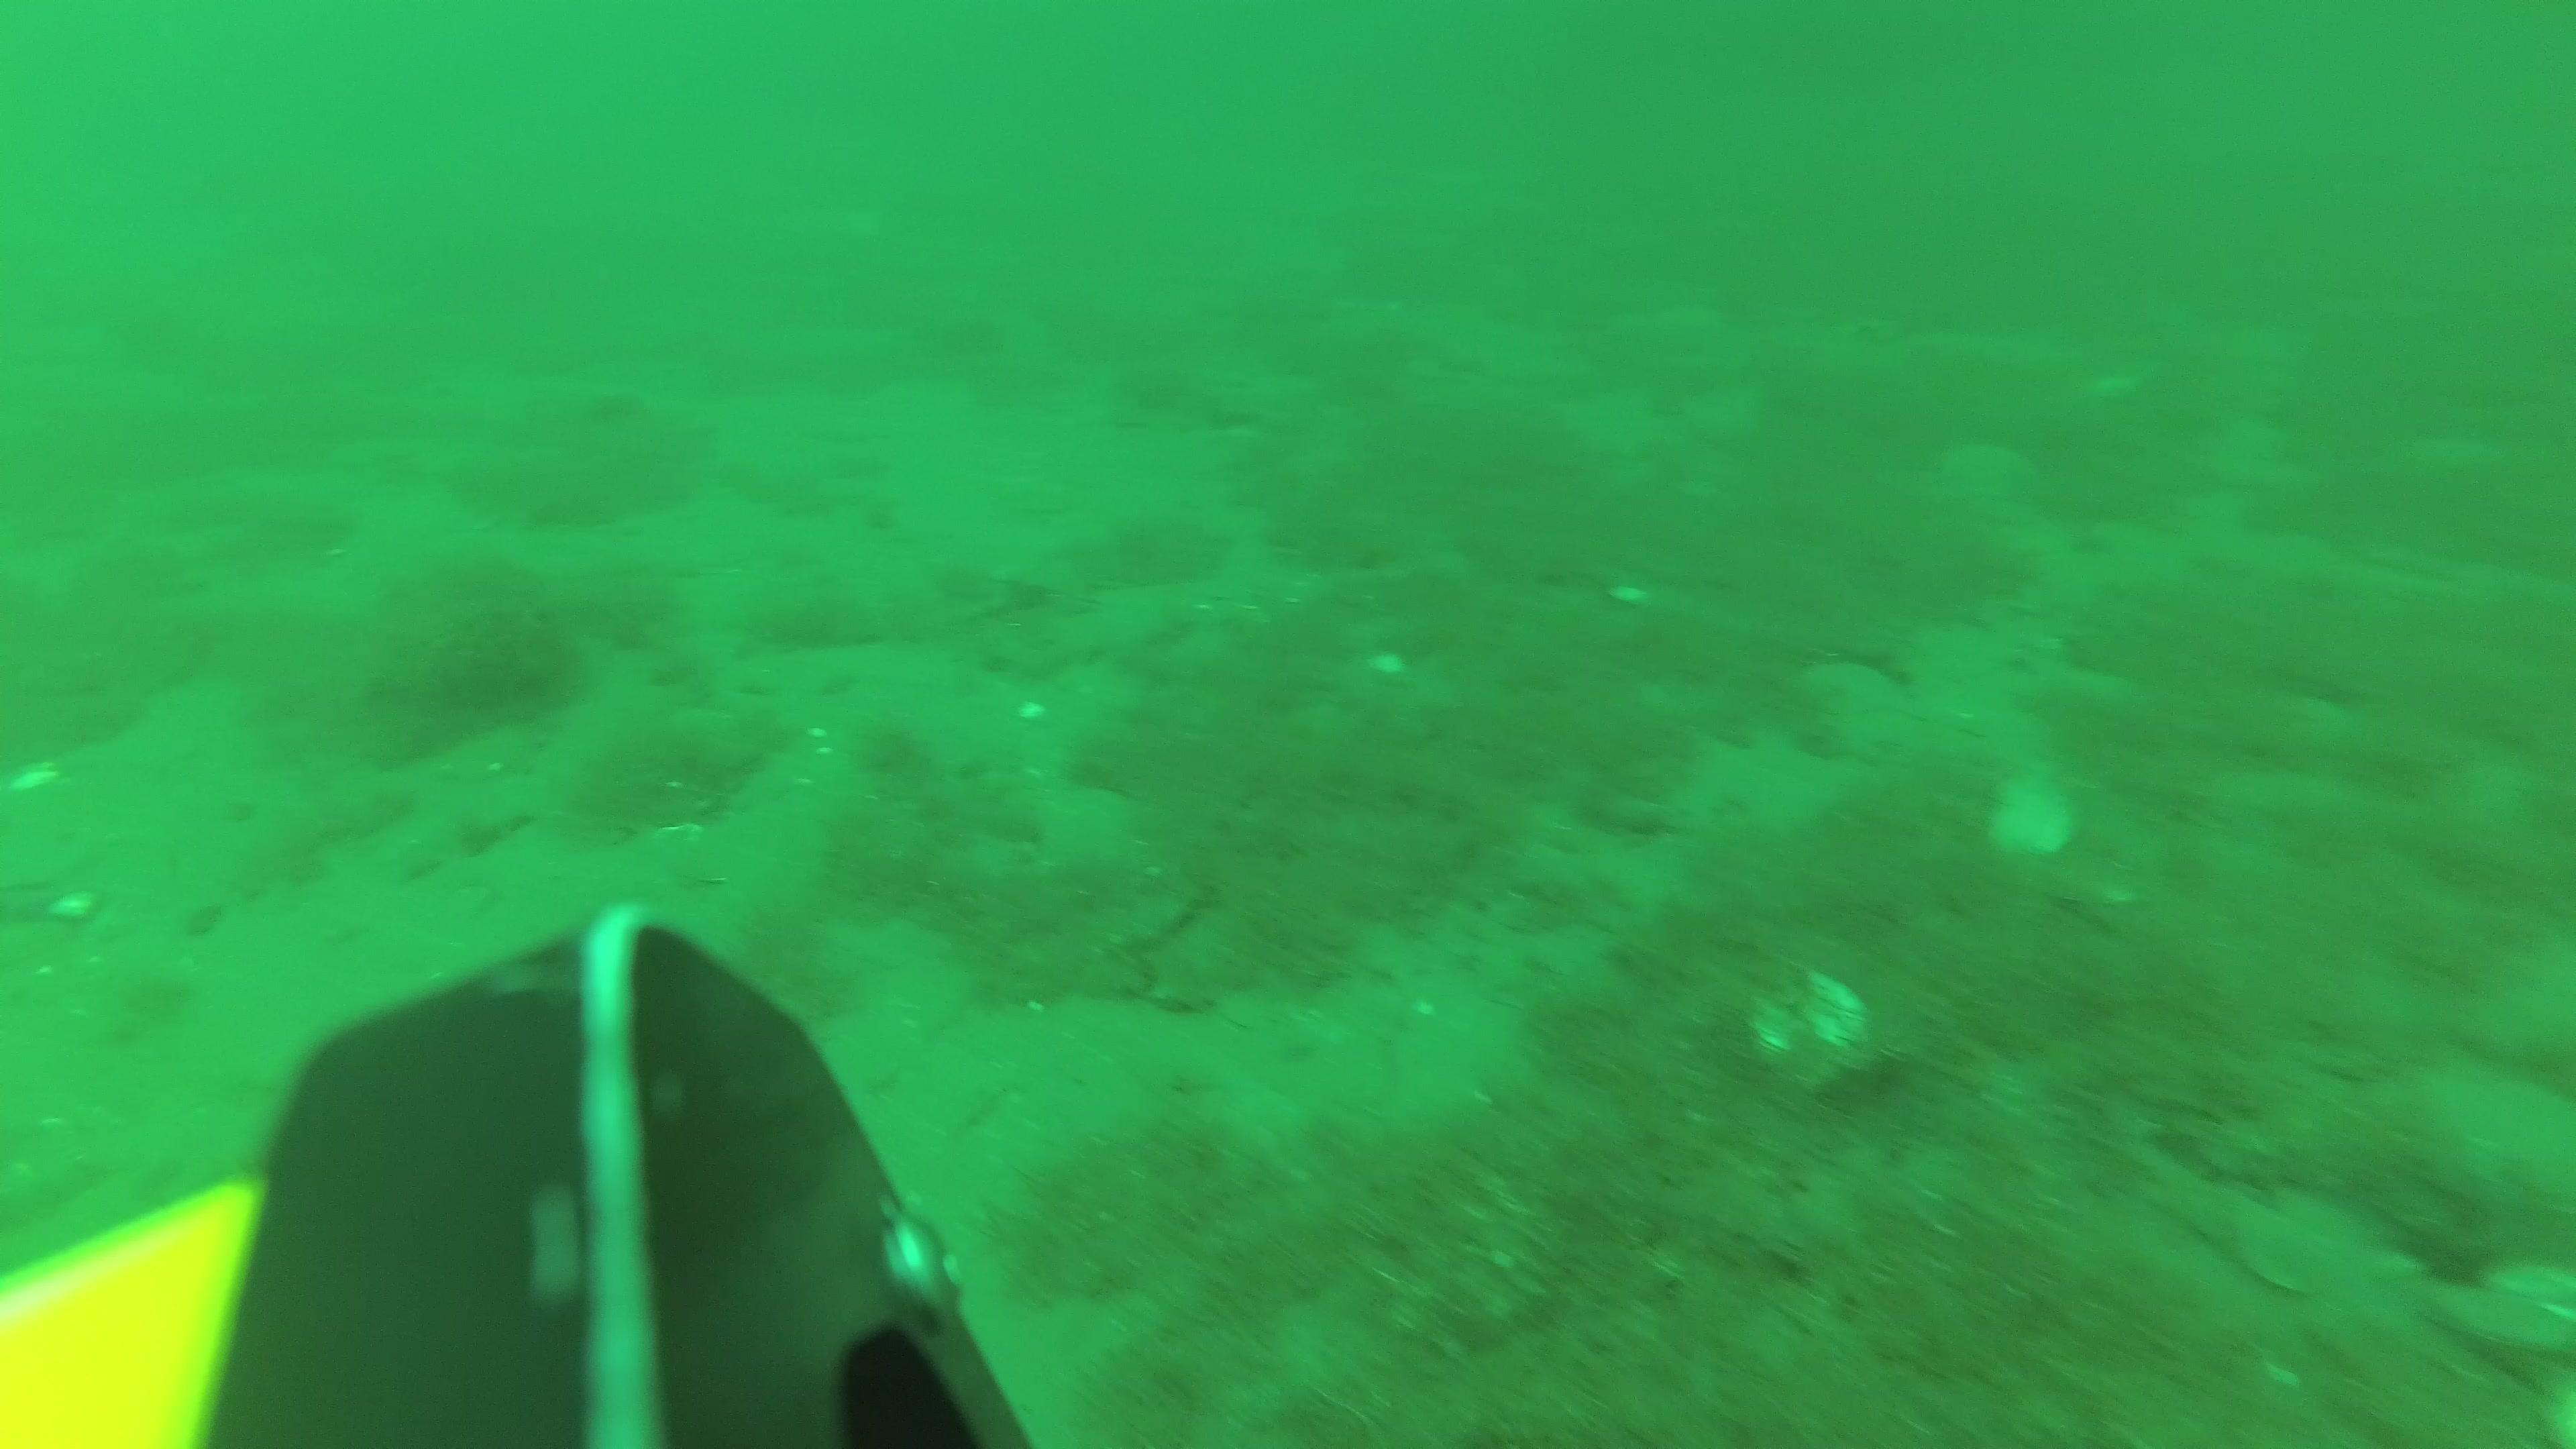scallop: (1759, 962, 1867, 1086), (2424, 1277, 2576, 1357), (1794, 653, 1902, 747), (1996, 777, 2077, 863), (435, 729, 533, 780), (655, 819, 711, 865)
starfish: (1930, 439, 2035, 515)
